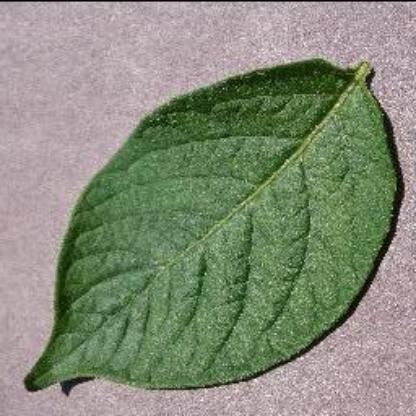Healthy-plant: (32, 52, 404, 398)
